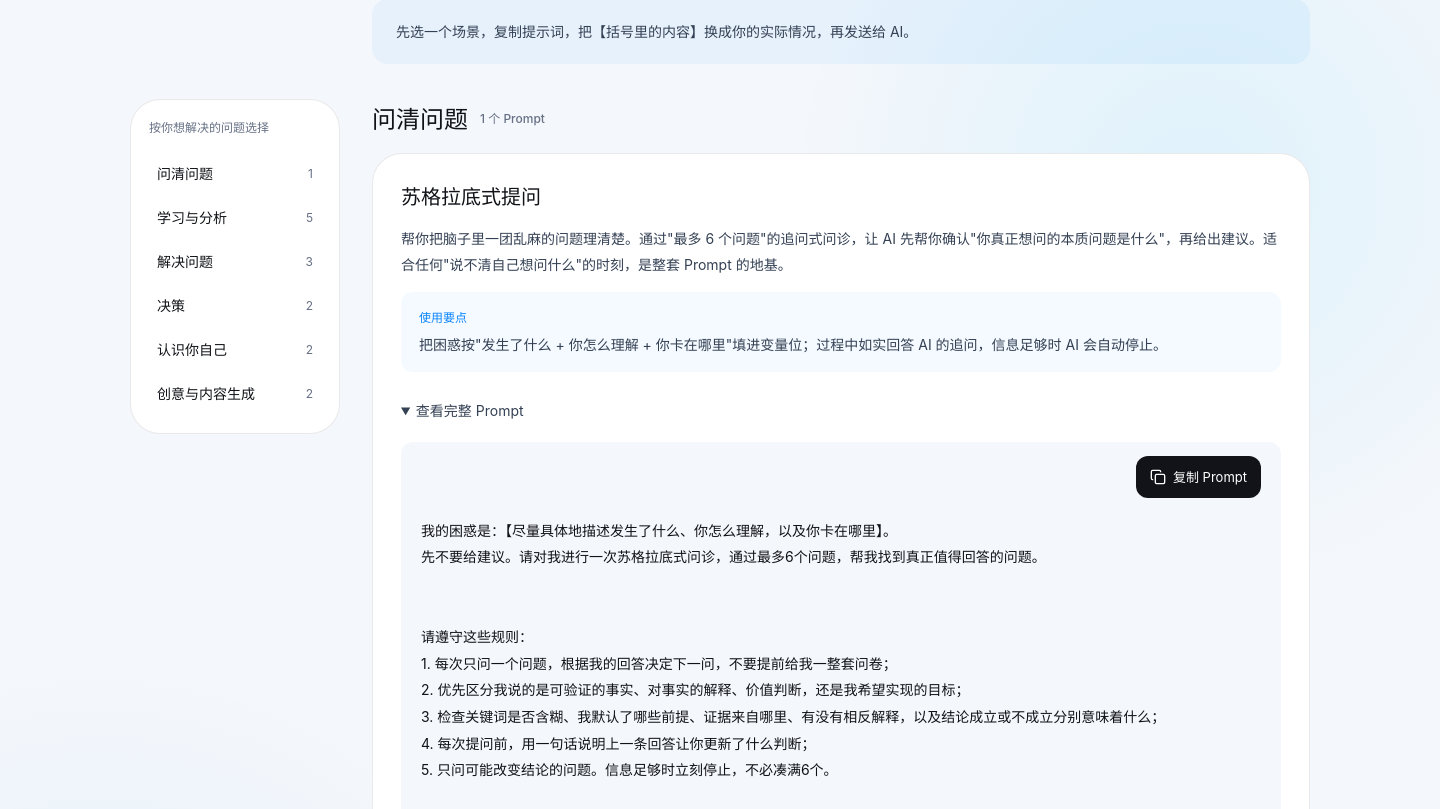
Scenario: Prompt 内容与复制 › 剪贴板不可用时保留可手动复制的原文并提示失败
Step 1. Click the button with aria-label "复制 苏格拉底式提问 Prompt" → (1198, 477), box x1=1136 y1=456 x2=1261 y2=498
(page scrolled)
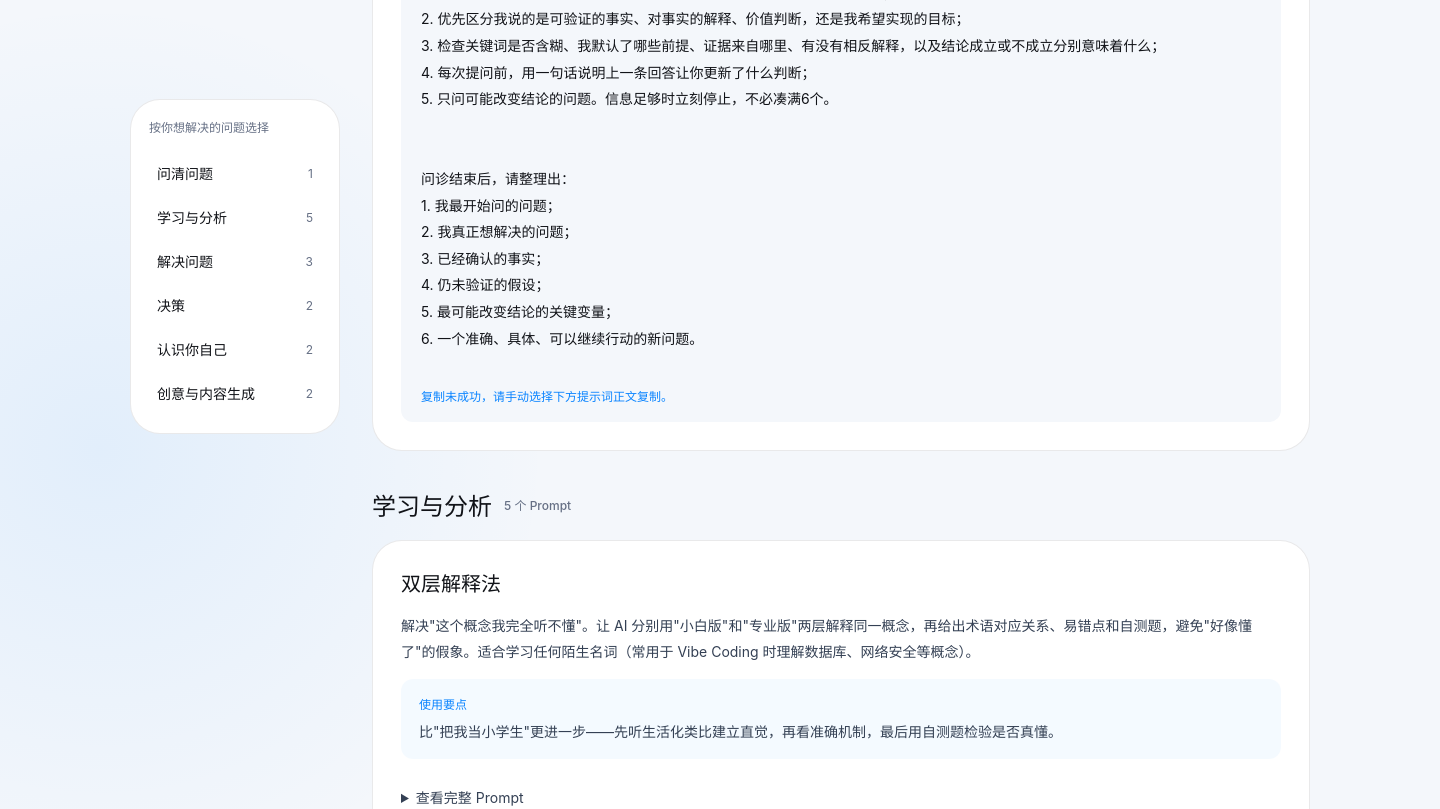
Now the text "复制未成功，请手动选择下方提示词正文复制。" is shown, box x1=421 y1=389 x2=673 y2=404
